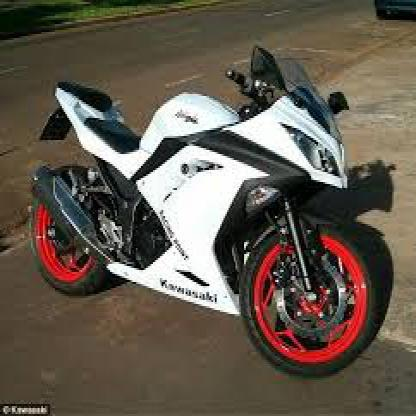Motorcycle: (26, 38, 389, 377)
